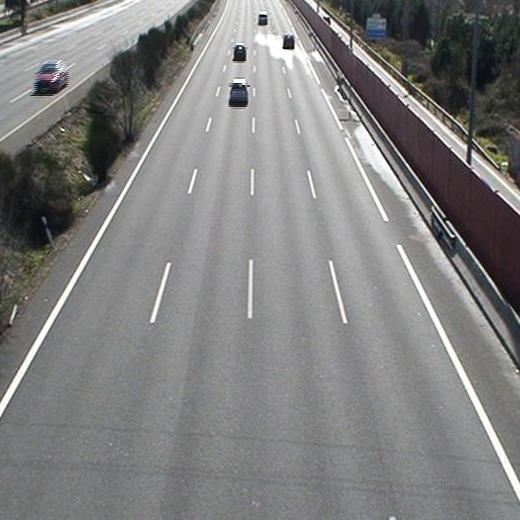car: (228, 79, 249, 104), (233, 42, 246, 61), (283, 33, 294, 50), (256, 13, 269, 25)
